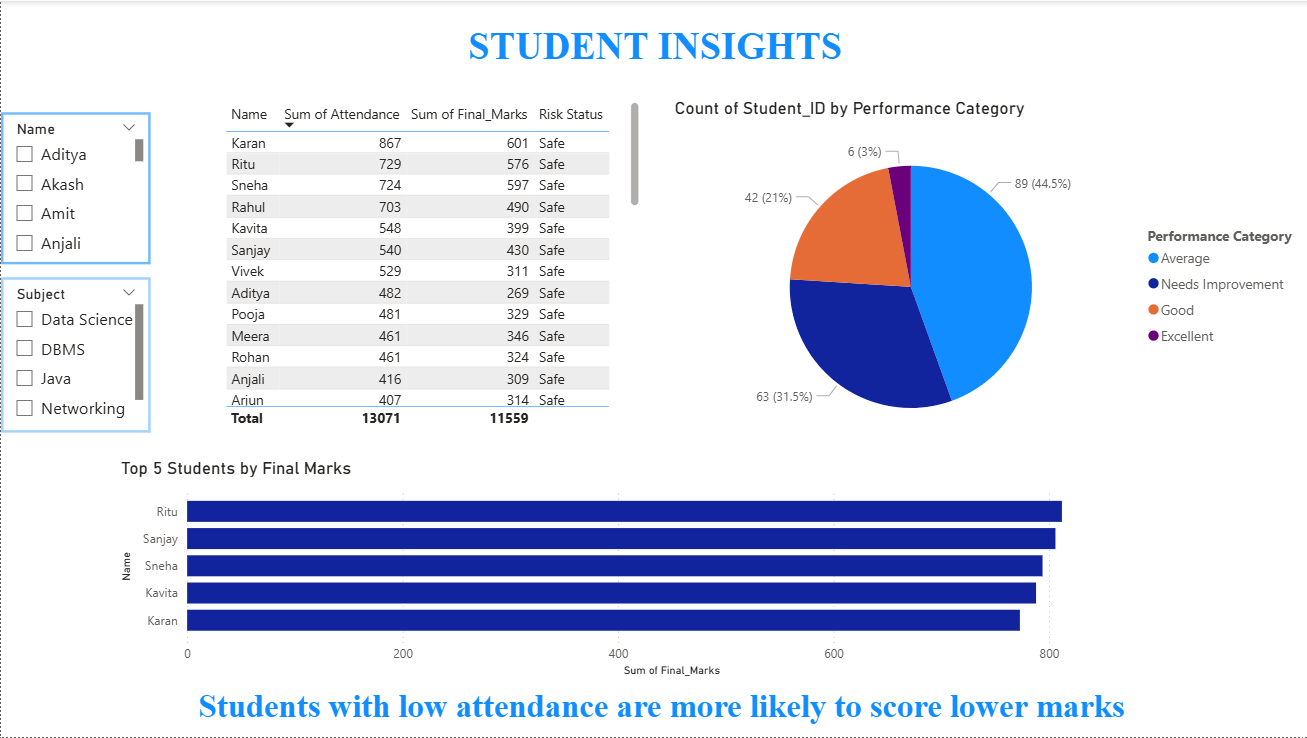

The page's visual inventory and layout, read from the dashboard file:
{"tool":"powerbi","page":{"name":"Student Insights","canvas":[1280,720],"ordinal":2},"visuals":[{"type":"pieChart","fields":{"Category":["student_data.Performance Category"],"Y":["CountNonNull(student_data.Student_ID)"]},"box":[654.2,94.2,626.1,352.2],"z":0},{"type":"tableEx","fields":{"Values":["student_data.Name","Sum(student_data.Attendance)","Sum(student_data.Final_Marks)","student_data.Risk Status"]},"box":[214,94.2,415.8,327.7],"z":1000},{"type":"textbox","box":[0,17.1,1280.3,66],"z":2000},{"type":"slicer","fields":{"Values":["student_data.Name"]},"box":[0,108.8,146.7,149.2],"z":3000},{"type":"slicer","fields":{"Values":["student_data.Subject"]},"box":[0,270.2,146.7,151.6],"z":4000},{"type":"textbox","box":[12.2,666.4,1268.1,53.8],"z":5000},{"type":"clusteredBarChart","title":"Top 5 Students by Final Marks","fields":{"Category":["student_data.Name"],"Y":["Sum(student_data.Final_Marks)"]},"box":[112.5,446.3,1033.3,220.1],"z":6000}]}

Visuals, with their boxes in screenshot pixels (x1, y1, x2, y2), scaled from the page's 1280x720 canvas onto the 1307x738 screenshot:
pieChart - student_data.Performance Category x CountNonNull(student_data.Student_ID): bbox=(668, 97, 1306, 458)
tableEx - student_data.Name x Sum(student_data.Attendance): bbox=(219, 97, 643, 432)
textbox: bbox=(0, 18, 1306, 85)
slicer - student_data.Name: bbox=(0, 112, 150, 264)
slicer - student_data.Subject: bbox=(0, 277, 150, 432)
textbox: bbox=(12, 683, 1306, 737)
"Top 5 Students by Final Marks" clusteredBarChart: bbox=(115, 457, 1170, 683)
